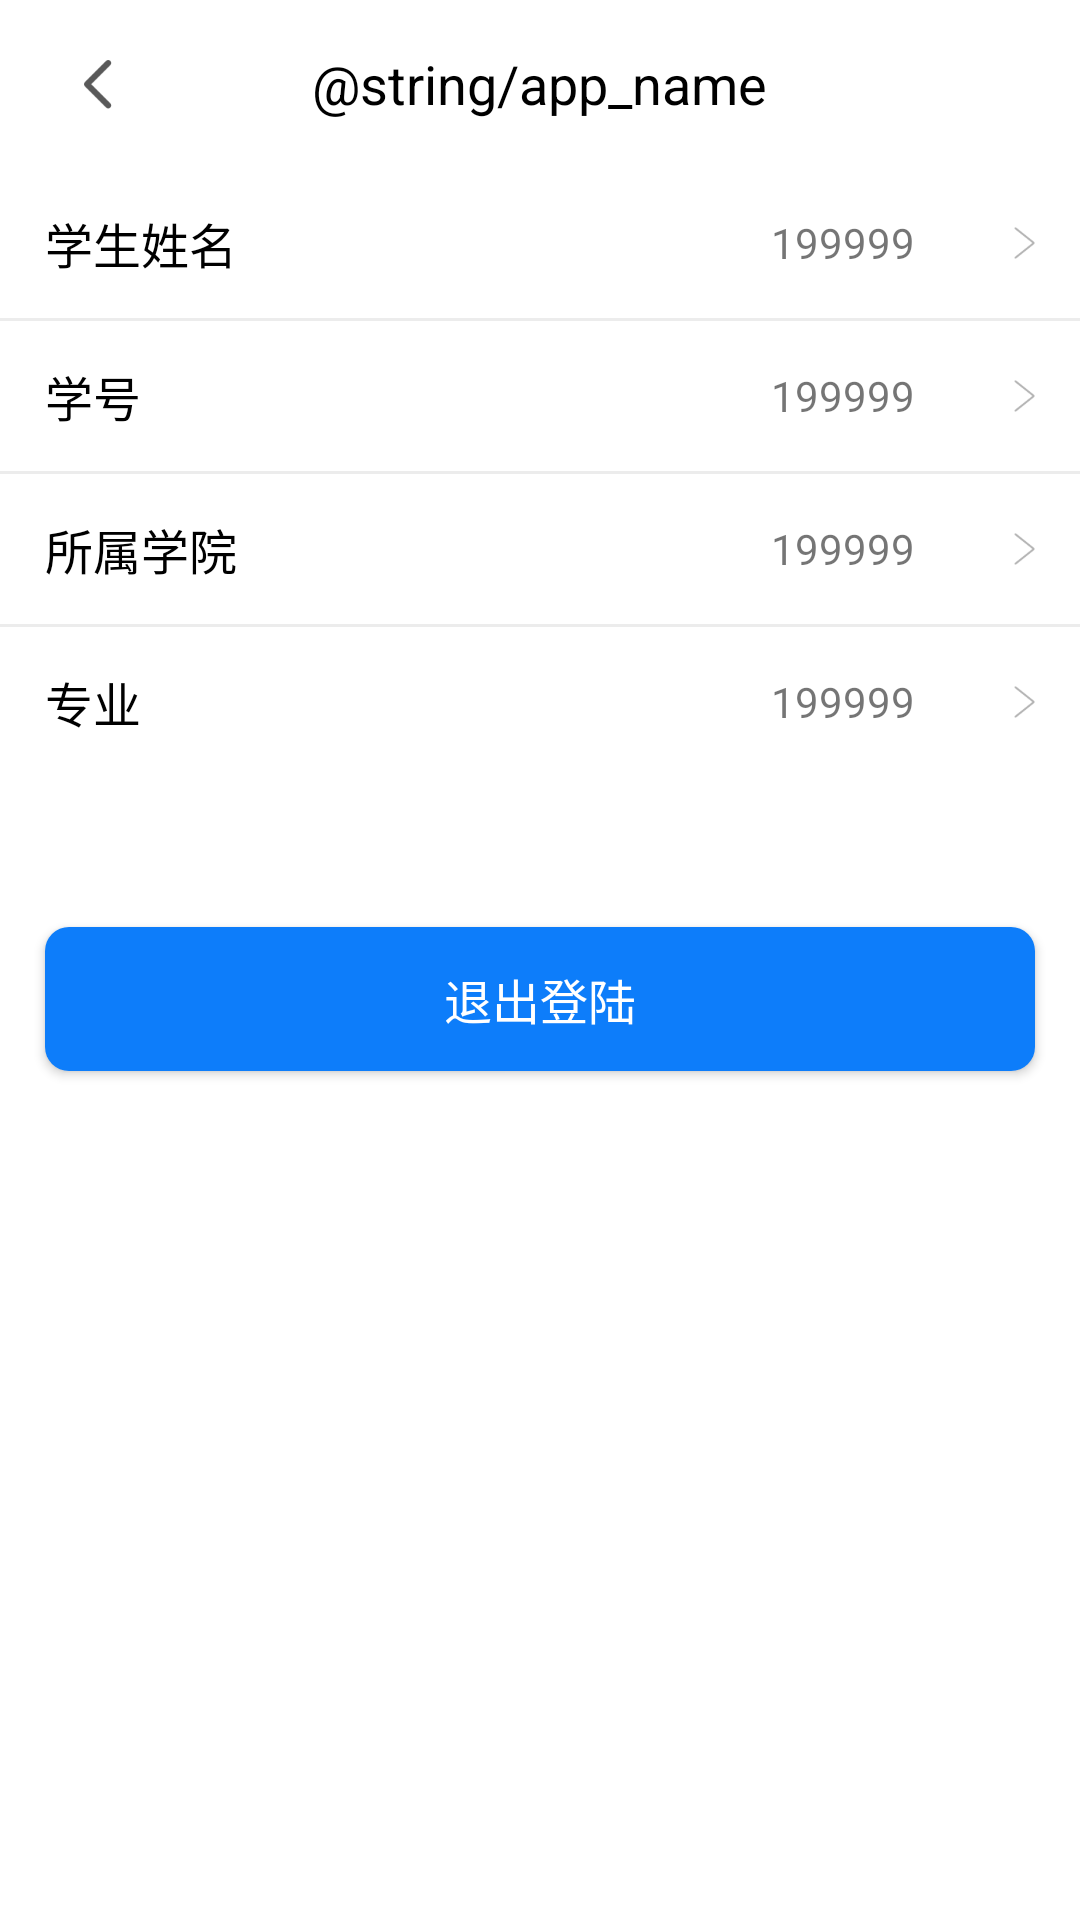

Where icons sit on this 1080*1920 app screen, as (x1, y1, x2, y2):
selecter fanhui: (84, 60, 112, 109)
